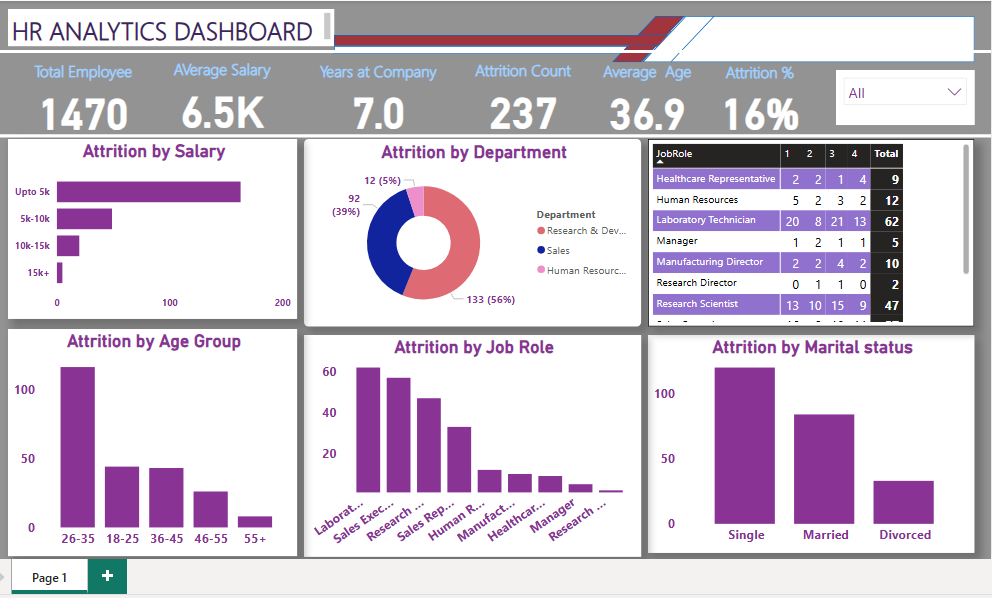

This screenshot's page, from the dashboard's own definition file:
{"tool":"powerbi","page":{"name":"Page 1","canvas":[1280,720],"ordinal":0},"visuals":[{"type":"card","title":"Total Employee","fields":{"Values":["Sum(Sheet1.EmployeeCount)"]},"box":[11.3,76.5,194.2,97.8],"z":0},{"type":"card","title":"Attrition Count","fields":{"Values":["Sum(Sheet1.attritioncount)"]},"box":[574,75.1,204.1,97.8],"z":1000},{"type":"card","title":"Average  Age","fields":{"Values":["Avg(Sheet1.Age)"]},"box":[738.4,76.5,197,97.8],"z":2000},{"type":"card","title":"Attrition %","fields":{"Values":["Sheet1.Attrition Rate"]},"box":[884.4,78,195.6,95],"z":3000},{"type":"card","title":"AVerage Salary","fields":{"Values":["Avg(Sheet1.MonthlyIncome)"]},"box":[198.4,73.7,178.6,99.2],"z":4000},{"type":"card","title":"Years at Company","fields":{"Values":["Avg(Sheet1.YearsAtCompany)"]},"box":[384.1,76.5,209.8,95],"z":5000},{"type":"donutChart","title":"Attrition by Department","fields":{"Category":["Sheet1.Department"],"Y":["Sum(Sheet1.attritioncount)"]},"box":[394,178.6,435.1,242.4],"z":6000},{"type":"columnChart","title":"Attrition by Marital status","fields":{"Y":["Sum(Sheet1.attritioncount)"],"Category":["Sheet1.MaritalStatus"]},"box":[837.6,430.9,420.9,280.6],"z":7000},{"type":"pivotTable","fields":{"Rows":["Sheet1.JobRole"],"Columns":["Sheet1.JobSatisfaction"],"Values":["Sum(Sheet1.attritioncount)"]},"box":[837.6,178.6,420.9,242.4],"z":8000},{"type":"barChart","title":"Attrition by Salary","fields":{"Category":["Sheet1.SalarySlab"],"Y":["Sum(Sheet1.attritioncount)"]},"box":[11.3,178.6,372.8,232.4],"z":9000},{"type":"columnChart","title":"Attrition by Job Role","fields":{"Y":["Sum(Sheet1.attritioncount)"],"Category":["Sheet1.JobRole"]},"box":[394,430.9,435.1,286.3],"z":10000},{"type":"columnChart","title":"Attrition by Age Group","fields":{"Y":["Sum(Sheet1.attritioncount)"],"Category":["Sheet1.AgeGroup"]},"box":[11.3,423.8,372.8,293.4],"z":11000},{"type":"textbox","box":[11.3,9.9,420.9,48.2],"z":12000},{"type":"shape","box":[432.3,58.1,452.1,9.9],"z":13000},{"type":"shape","box":[866,19.8,392.6,59.5],"z":14000},{"type":"shape","box":[790.9,19.8,93.5,59.5],"z":15000},{"type":"shape","box":[432.3,43.9,452.1,14.2],"z":16000},{"type":"shape","box":[829.2,19.9,93.5,59.5],"z":17000},{"type":"shape","box":[0,147.4,1279.8,53.9],"z":18000},{"type":"shape","box":[0,45.4,1279.8,43.9],"z":19000},{"type":"slicer","fields":{"Values":["Sheet1.JobRole"]},"box":[1080,89.3,178.6,70.9],"z":19001}]}

Visuals, with their boxes in screenshot pixels (x1, y1, x2, y2):
"Total Employee" card: box=[14, 61, 162, 136]
"Attrition Count" card: box=[444, 60, 600, 135]
"Average  Age" card: box=[570, 61, 720, 136]
"Attrition %" card: box=[681, 62, 831, 135]
"AVerage Salary" card: box=[157, 59, 293, 135]
"Years at Company" card: box=[299, 61, 459, 134]
"Attrition by Department" donutChart: box=[306, 139, 639, 324]
"Attrition by Marital status" columnChart: box=[645, 332, 967, 546]
pivotTable - Sheet1.JobRole x Sheet1.JobSatisfaction: box=[645, 139, 967, 324]
"Attrition by Salary" barChart: box=[14, 139, 299, 317]
"Attrition by Job Role" columnChart: box=[306, 332, 639, 551]
"Attrition by Age Group" columnChart: box=[14, 326, 299, 551]
textbox: box=[14, 10, 335, 47]
shape: box=[336, 47, 681, 55]
shape: box=[667, 18, 967, 63]
shape: box=[610, 18, 681, 63]
shape: box=[336, 36, 681, 47]
shape: box=[639, 18, 710, 63]
shape: box=[5, 115, 983, 156]
shape: box=[5, 37, 983, 71]
slicer - Sheet1.JobRole: box=[831, 71, 967, 125]
